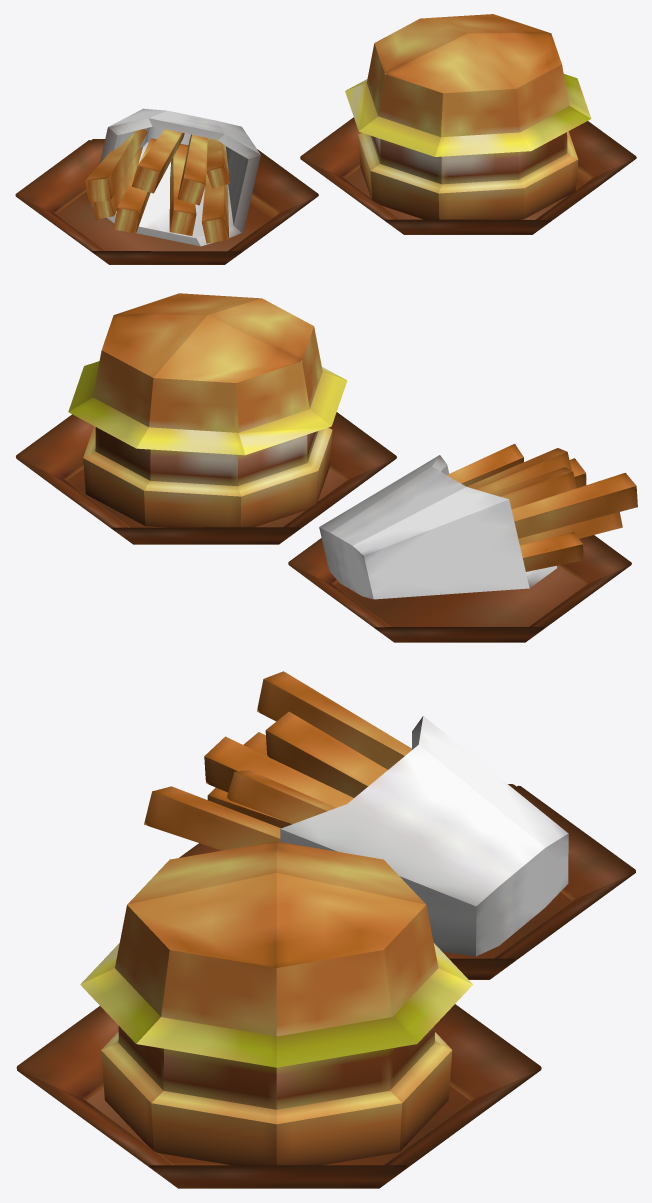
File: Poly_SF_Outside_B_Stall_Goods_02.obj
The picture shows the model from 3 angles, top to bottom: view 1: azimuth 30°, elevation 25°; view 2: azimuth 150°, elevation 25°; view 3: azimuth 270°, elevation 25°; orthographic projection. The views are drawn at different scales.
Visible parts, largest first — view 1: Cube.002, Cube.001, Cube.003; view 2: Cube.002, Cube.001, Cube.003; view 3: Cube.002, Cube.001, Cube.003.
Boxes of the visible parts, x1,y1,x2,y2 form: Cube.002: (90,14,591,246); Cube.001: (15,117,636,264); Cube.003: (85,129,229,243); Cube.002: (68,293,557,599); Cube.001: (16,412,631,642); Cube.003: (395,444,637,598); Cube.002: (80,716,568,1165); Cube.001: (16,784,635,1188); Cube.003: (144,671,411,850).
Size of the model in its own units: 0.6839 by 0.1997 by 0.4662.
1 material, 1 textured.
